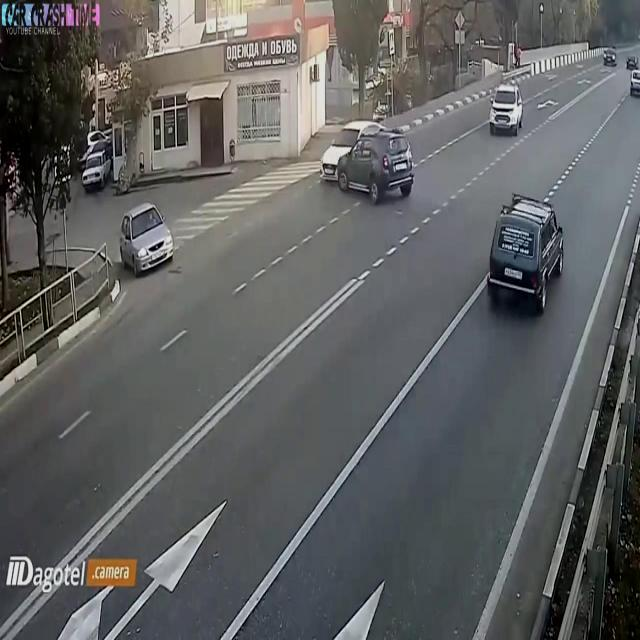accident: (320, 120, 416, 204)
non-accident: (75, 128, 115, 194), (602, 47, 640, 97)
